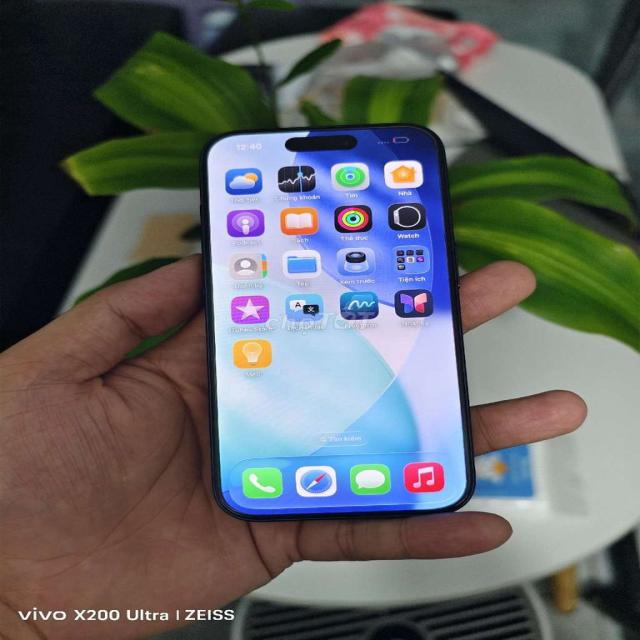gen_15: (194, 118, 482, 525)
